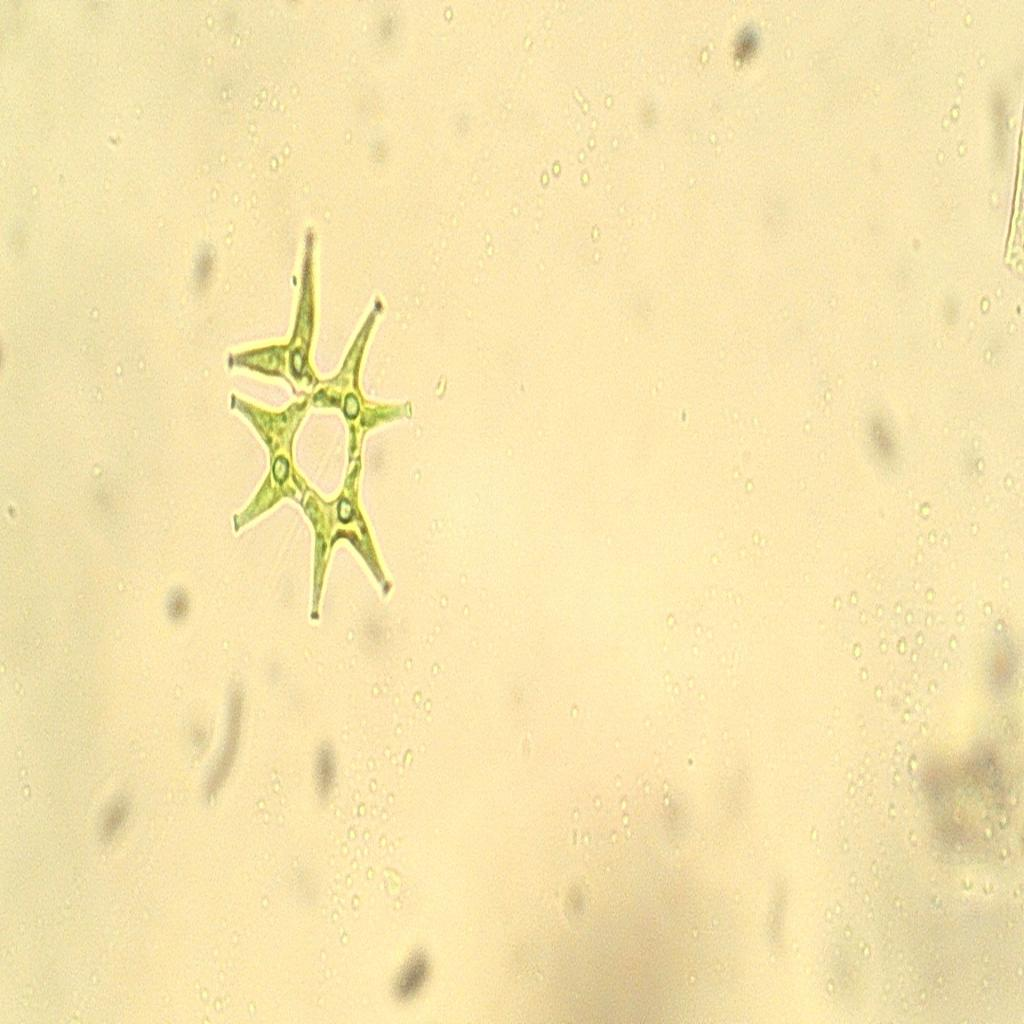Pediastrum_CT: (214, 181, 420, 636)
